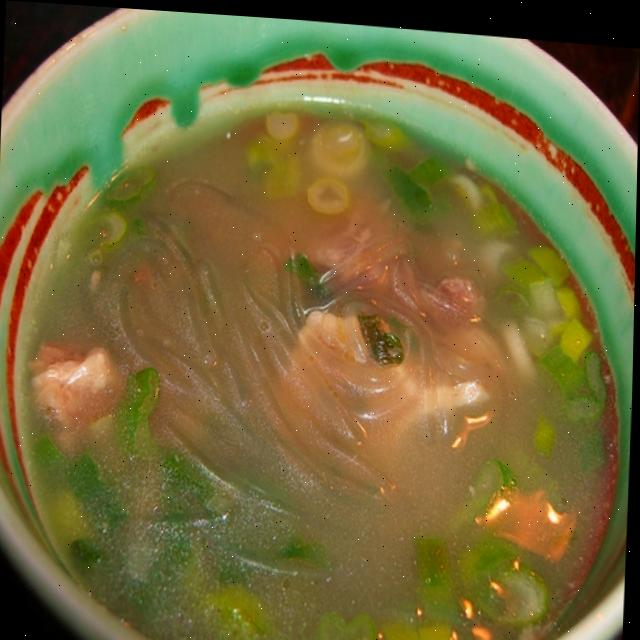汤锅炖物: (14, 7, 630, 640)
